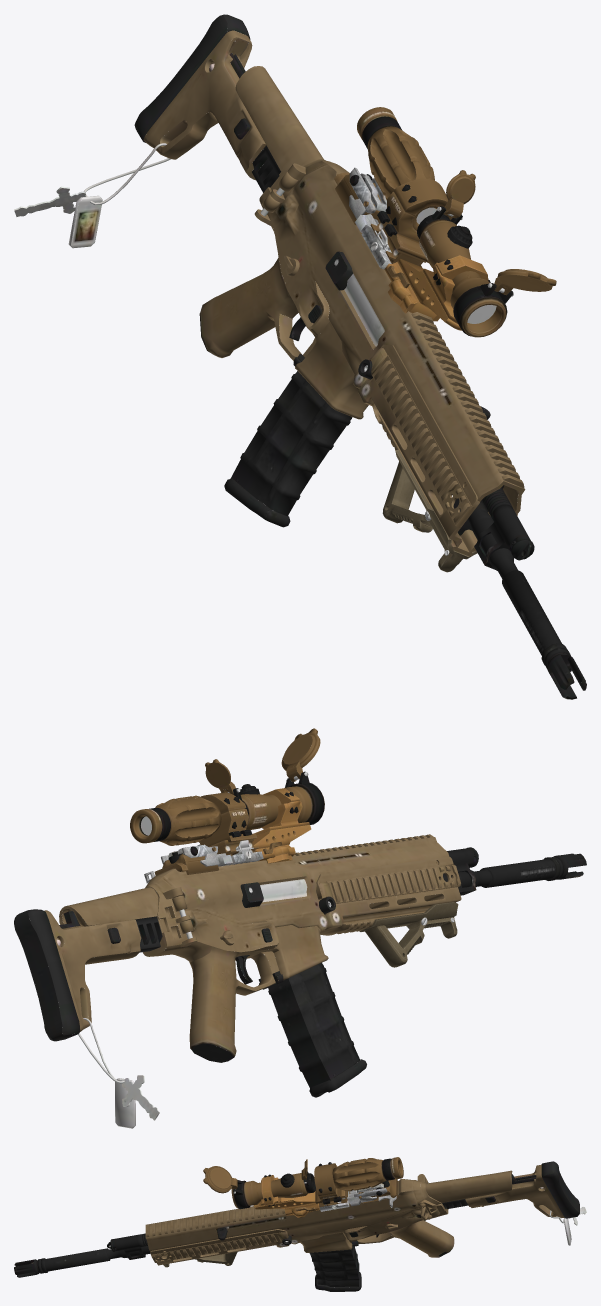
Rendered from gun.glb.
3 renders of one model, top to bottom at view 1: azimuth 30°, elevation 25°; view 2: azimuth 150°, elevation 25°; view 3: azimuth 270°, elevation 25°, orthographic. The views are drawn at different scales.
Visible parts, largest first — view 1: Object_4, Object_6, Object_5, Object_3, Object_2, Object_7; view 2: Object_4, Object_6, Object_5, Object_3, Object_2, Object_7; view 3: Object_4, Object_6, Object_3, Object_5, Object_2, Object_7.
Boxes of the visible parts, x1,y1,x2,y2 form: Object_4: [14, 30, 583, 697]; Object_6: [14, 14, 572, 669]; Object_5: [63, 14, 586, 699]; Object_3: [338, 107, 556, 337]; Object_2: [334, 129, 552, 330]; Object_7: [382, 449, 477, 572]; Object_4: [44, 837, 583, 1112]; Object_6: [14, 834, 568, 1128]; Object_5: [15, 835, 586, 1128]; Object_3: [130, 728, 324, 883]; Object_2: [141, 732, 320, 875]; Object_7: [359, 902, 458, 967]; Object_4: [14, 1164, 582, 1277]; Object_6: [33, 1161, 586, 1291]; Object_3: [203, 1157, 403, 1215]; Object_5: [14, 1161, 584, 1287]; Object_2: [205, 1158, 397, 1217]; Object_7: [163, 1252, 237, 1267].
Size of the model in its own units: 19.84 by 29.78 by 87.7.
3 materials, 3 textured.
